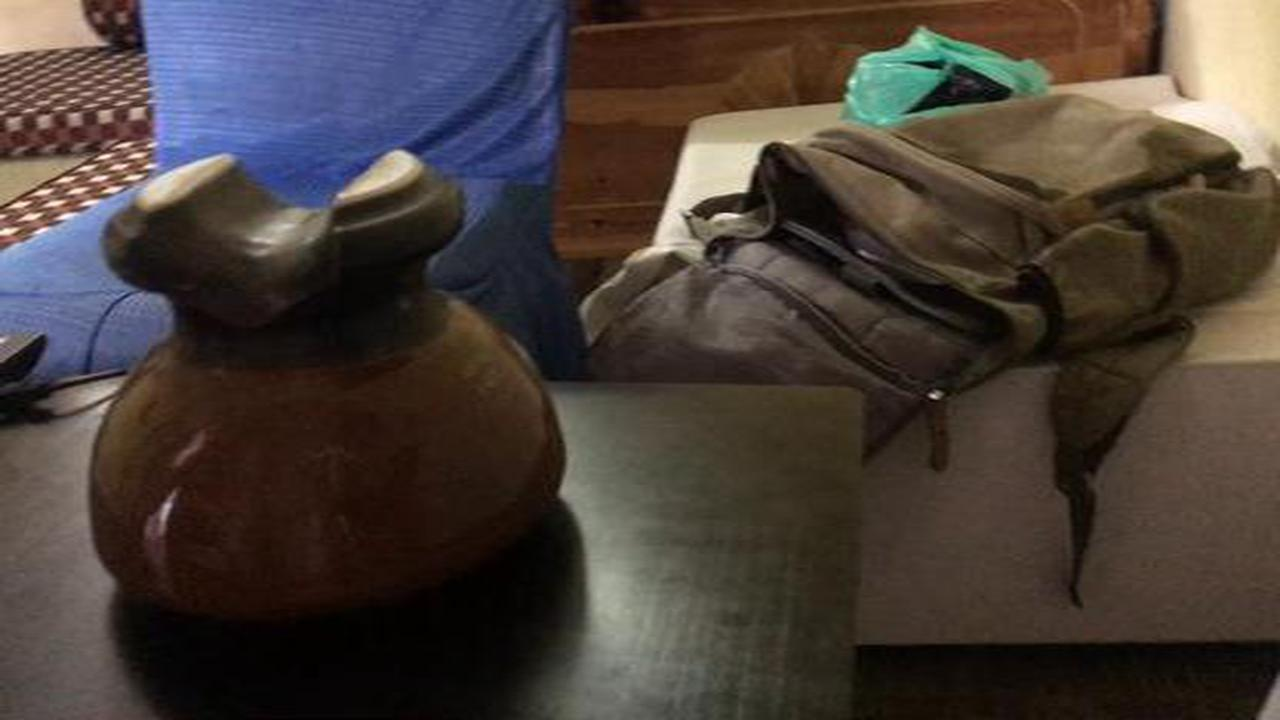insulator_pin: (68, 141, 604, 650)
